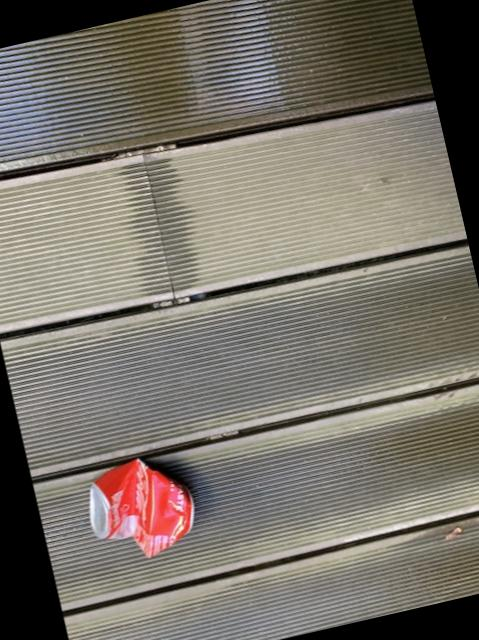metal: (89, 458, 193, 556)
